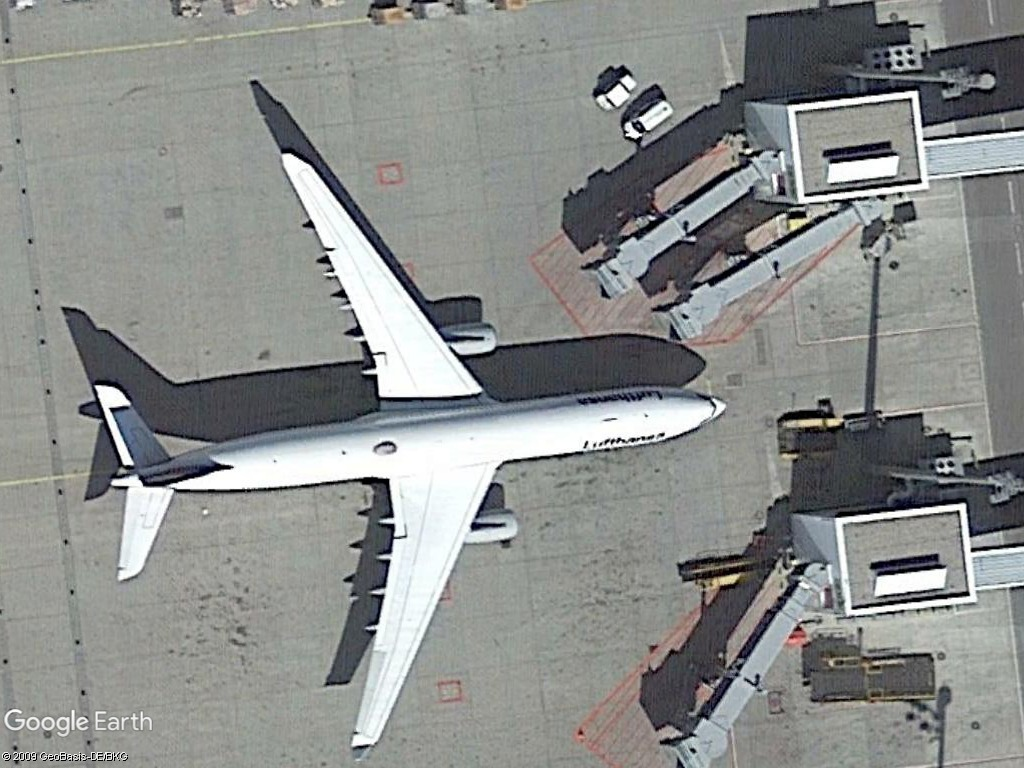airliner: (86, 143, 733, 767)
van: (620, 95, 676, 147)
